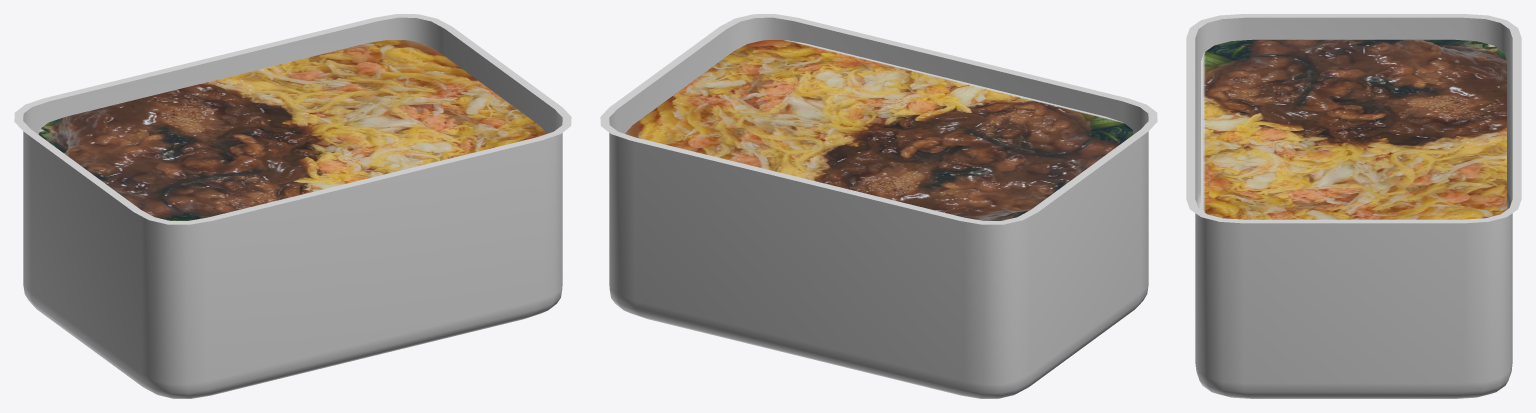
The model's file is xfdckdpf1.FBX.
3 renders of one model, left to right at view 1: azimuth 30°, elevation 25°; view 2: azimuth 150°, elevation 25°; view 3: azimuth 270°, elevation 25°, orthographic.
Visible parts, largest first — view 1: Box001; view 2: Box001; view 3: Box001.
Part boxes in pixels (<box>): Box001: <box>14,14,571,398</box>; Box001: <box>600,14,1157,398</box>; Box001: <box>1186,14,1521,398</box>.
Size of the model in its own units: 0.1169 by 0.0481 by 0.0791.
